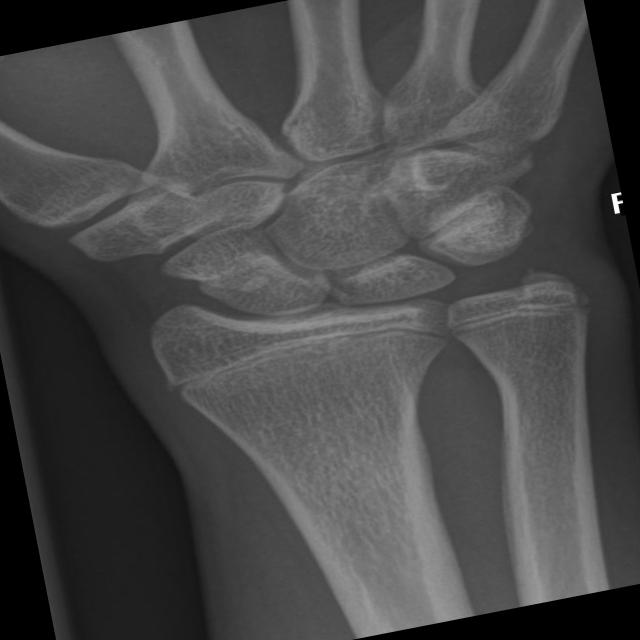fracture: (152, 296, 472, 411), (408, 276, 620, 360)
